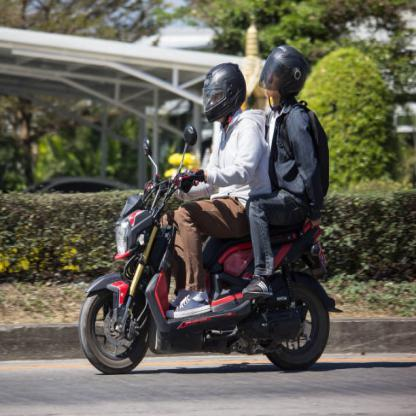Motorcycle: (77, 165, 341, 377)
